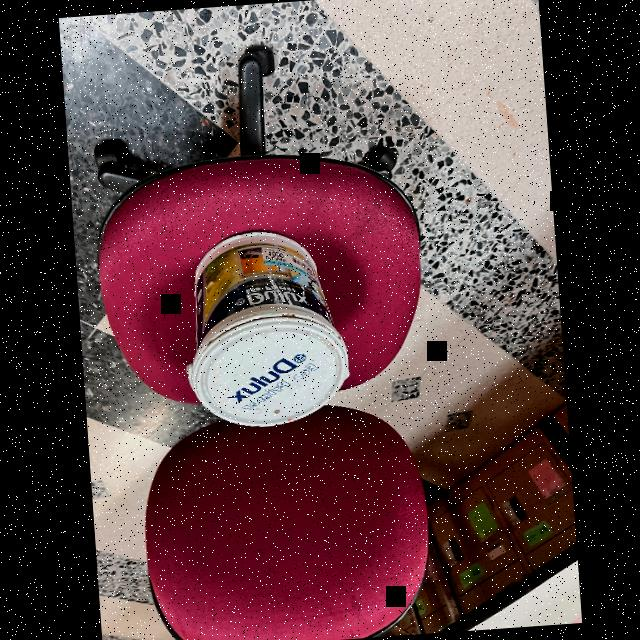paint_bucket: (154, 218, 366, 440)
